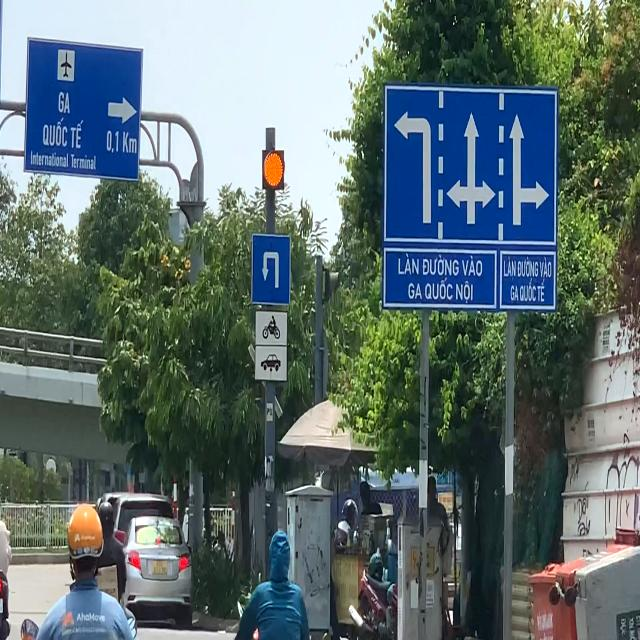R.409: (251, 232, 291, 306)
